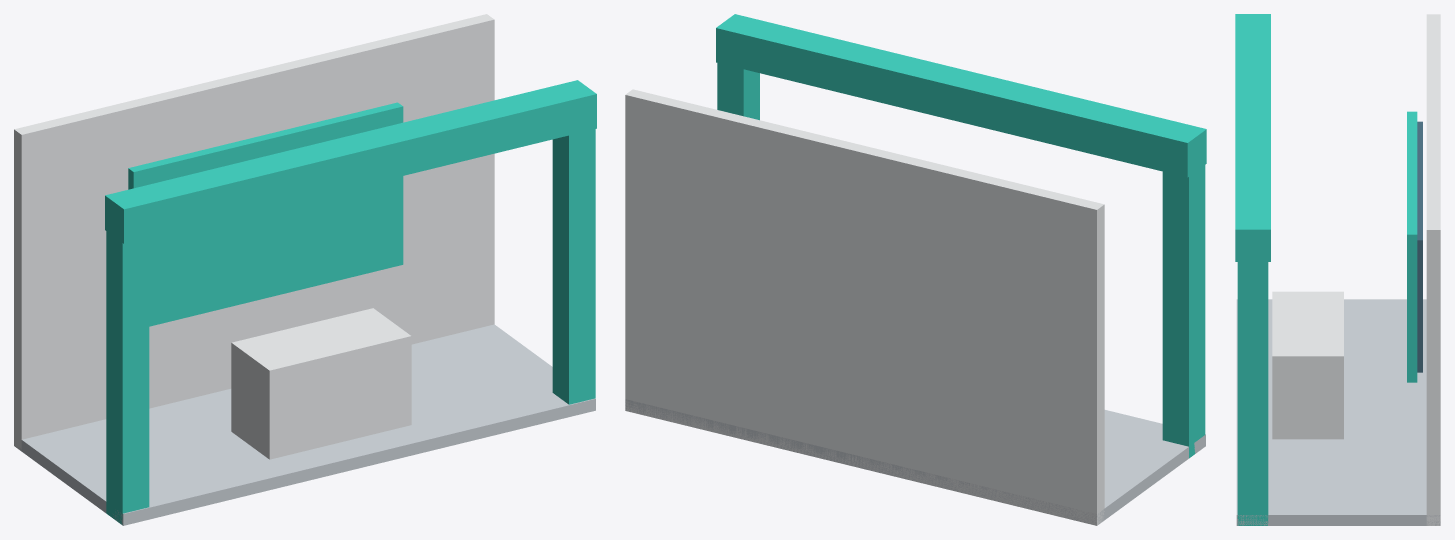
3 views of the same model, side by side, from view 1: azimuth 30°, elevation 25°; view 2: azimuth 150°, elevation 25°; view 3: azimuth 270°, elevation 25° (orthographic). The views are drawn at different scales.
Visible parts, largest first — view 1: Exhibition Booth Concept; view 2: Exhibition Booth Concept; view 3: Exhibition Booth Concept.
Part boxes in pixels (x1,y1,x2,y2): Exhibition Booth Concept: (14, 14, 596, 525); Exhibition Booth Concept: (625, 14, 1206, 525); Exhibition Booth Concept: (1235, 14, 1440, 525).
Bounding box in the file's own units: 5 × 3.2 × 2.01.
